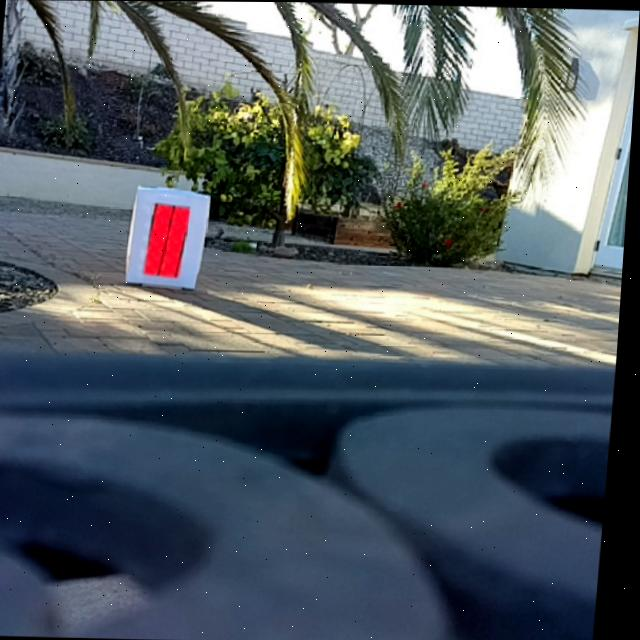led: (148, 202, 192, 278)
